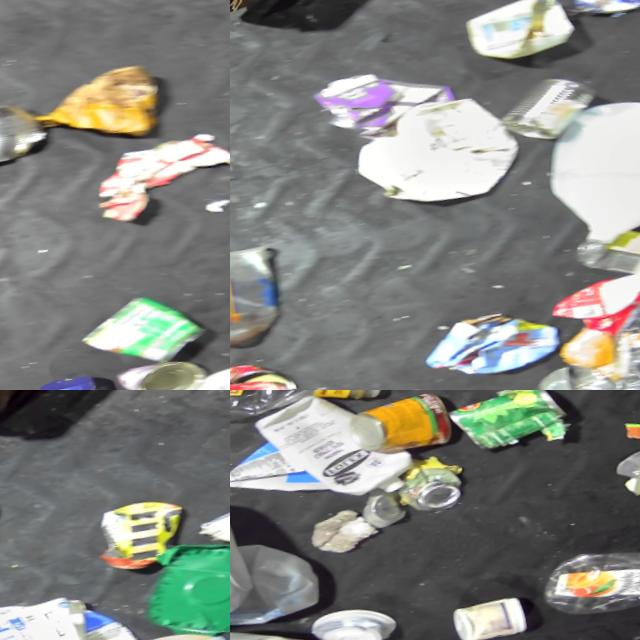can: (74, 273, 212, 373), (493, 62, 598, 144), (443, 390, 572, 453), (342, 390, 457, 457), (96, 486, 184, 571), (392, 445, 469, 514), (447, 582, 533, 640), (111, 341, 212, 390), (306, 591, 401, 640), (188, 459, 230, 566), (0, 90, 50, 172), (230, 348, 301, 390), (357, 477, 410, 529)
milk_jug: (532, 75, 640, 242)
plastic_bottle: (532, 517, 640, 621), (564, 198, 640, 297), (30, 359, 134, 390)
